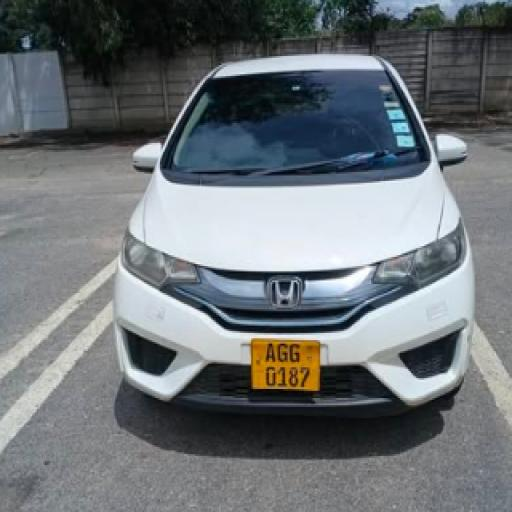number-plates: (249, 336, 312, 391)
